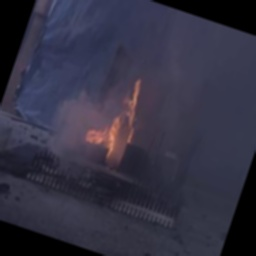fire: (79, 68, 154, 170)
